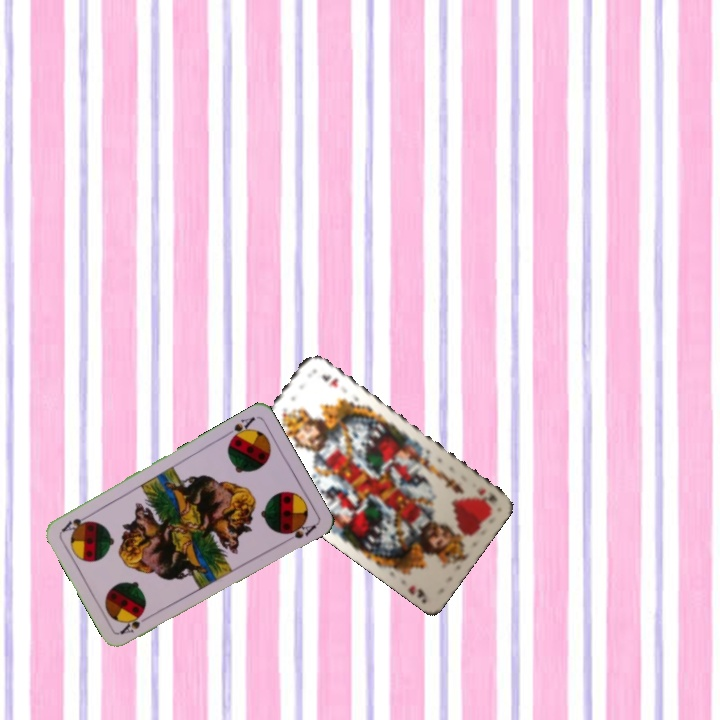HK: (473, 484, 500, 504)
SA: (221, 412, 258, 444), (116, 611, 154, 637)
